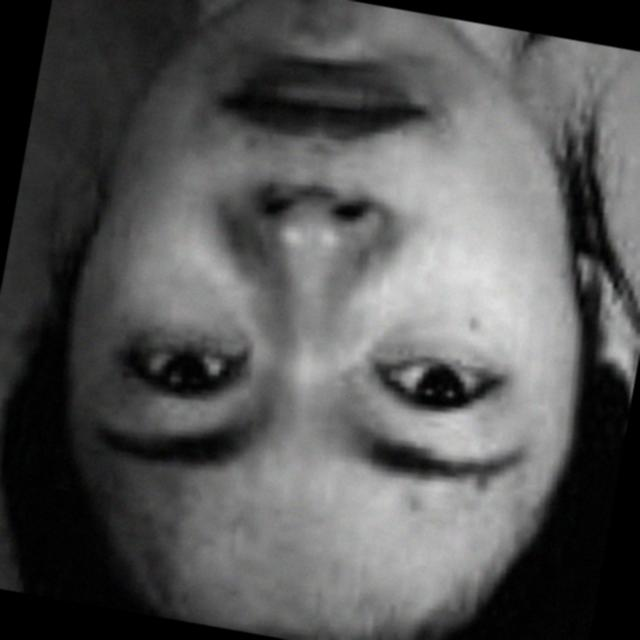sad: (48, 0, 605, 571)
